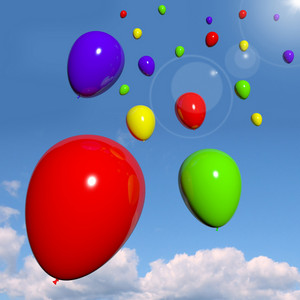Balloon: (25, 134, 146, 281), (178, 148, 242, 228), (67, 30, 125, 97), (174, 92, 206, 131), (126, 105, 155, 141), (137, 55, 156, 77), (234, 80, 251, 101), (205, 31, 219, 48), (282, 49, 295, 64), (251, 112, 263, 127), (175, 45, 185, 58), (132, 28, 142, 40), (239, 40, 249, 52), (120, 84, 129, 95), (238, 9, 247, 20), (158, 4, 166, 15), (205, 15, 212, 25), (120, 10, 127, 18)
